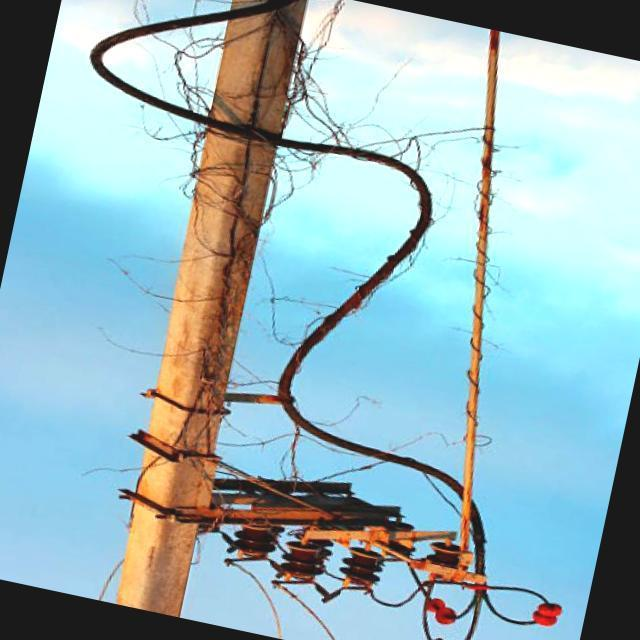critical vegetation: (115, 0, 362, 299)
